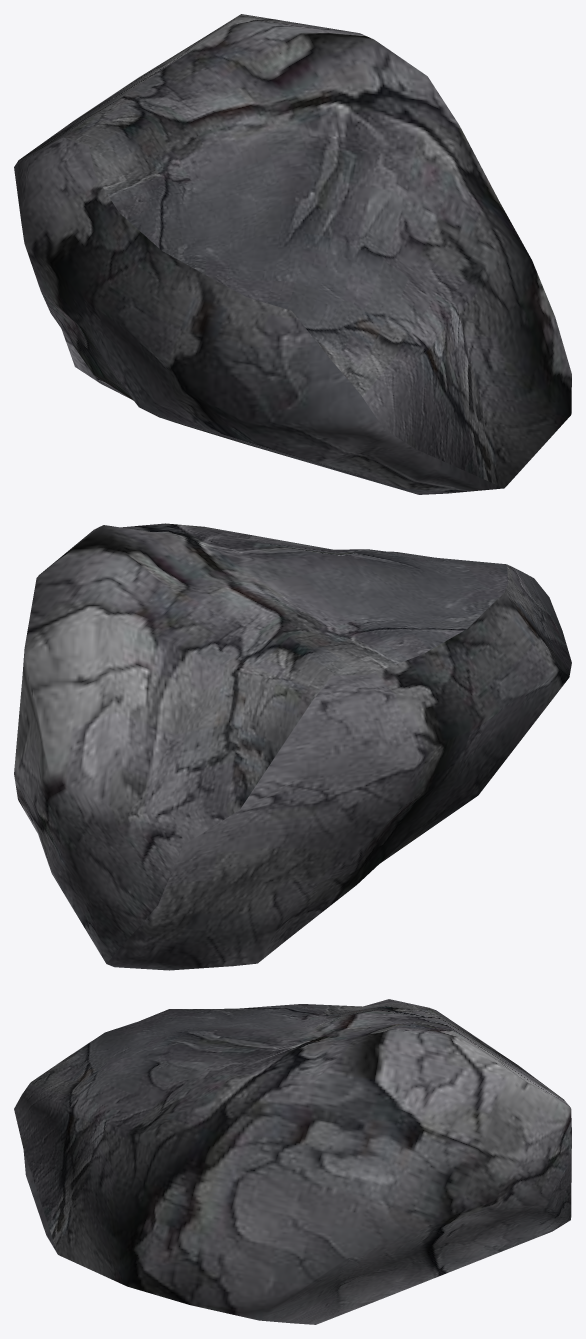
File: Rock1.fbx
3 renders of one model, top to bottom at view 1: azimuth 30°, elevation 25°; view 2: azimuth 150°, elevation 25°; view 3: azimuth 270°, elevation 25°, orthographic. The views are drawn at different scales.
Parts seen in each view (by area): view 1: rock.005; view 2: rock.005; view 3: rock.005.
Part boxes in pixels (<box>): rock.005: <box>14,14,571,494</box>; rock.005: <box>14,523,571,970</box>; rock.005: <box>14,999,571,1324</box>.
Size of the model in its own units: 274 by 241 by 424.
